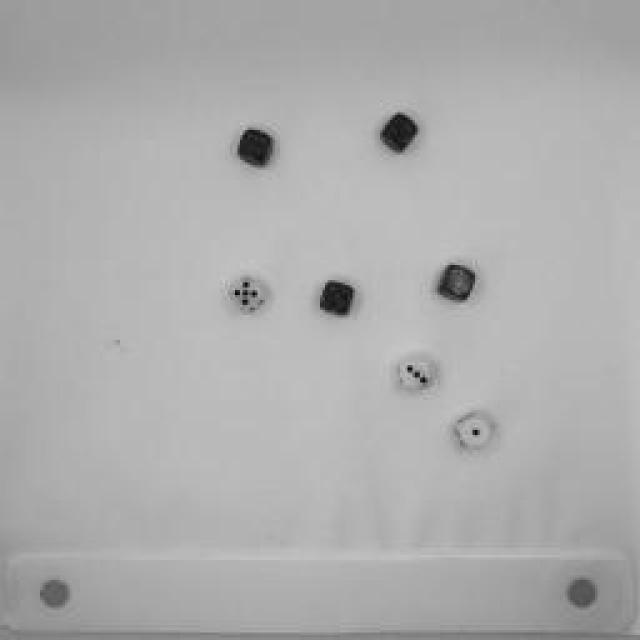dice_1: (452, 408, 496, 452)
dice_2: (371, 106, 424, 162), (431, 262, 479, 302)
dice_3: (392, 349, 442, 406), (316, 276, 359, 319)
dice_5: (224, 271, 271, 314)
dice_6: (232, 126, 282, 169)
